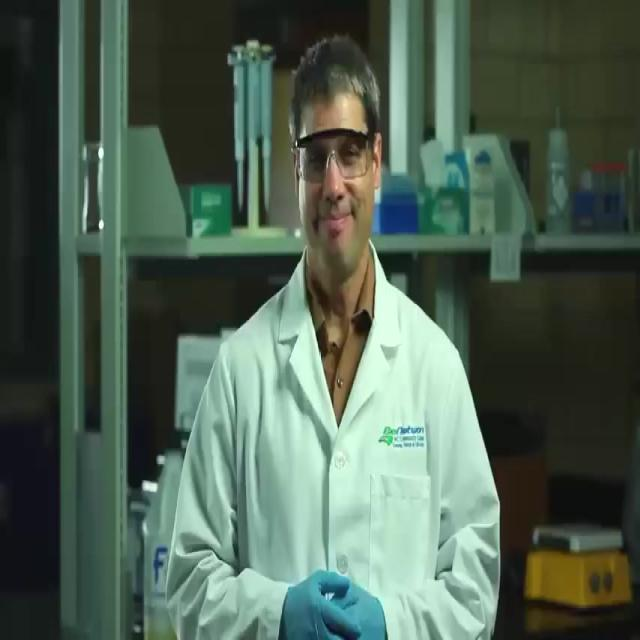googles: (295, 124, 370, 184)
labcoat: (167, 233, 501, 640)
